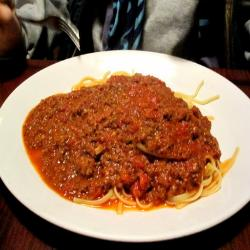bolonese_pasta: (12, 53, 246, 226)
